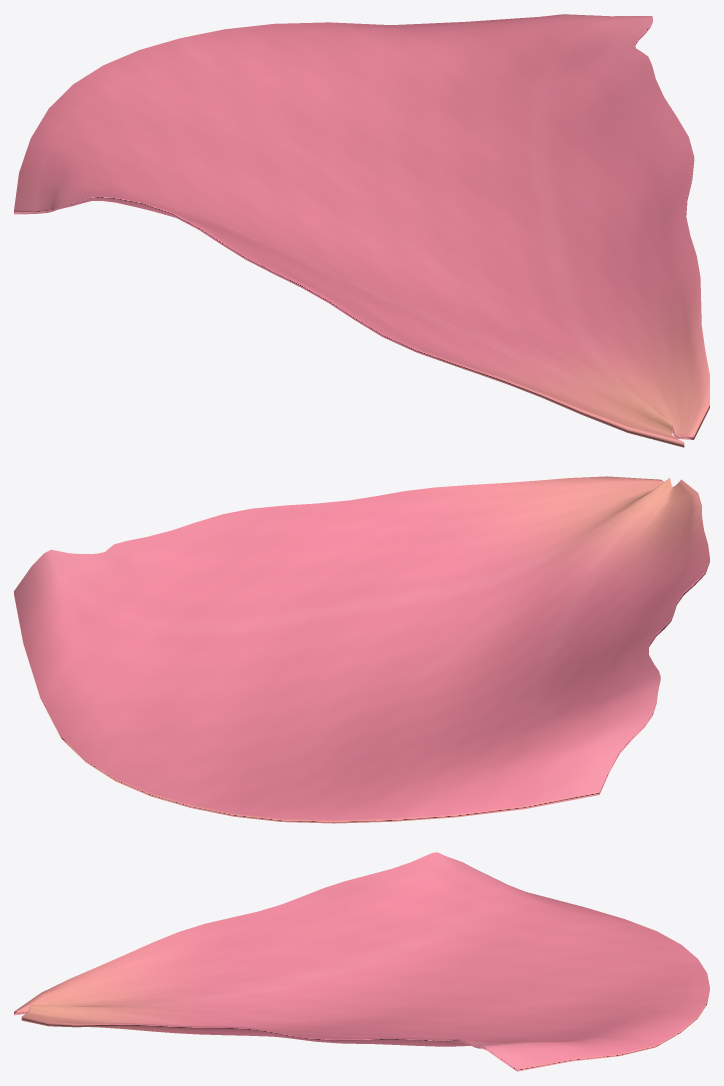
The model's file is flower_petal_hero_clean.glb.
3 views of the same model, one above another, from view 1: azimuth 30°, elevation 25°; view 2: azimuth 150°, elevation 25°; view 3: azimuth 270°, elevation 25° (orthographic). The views are drawn at different scales.
Parts seen in each view (by area): view 1: FlowerPetalHero; view 2: FlowerPetalHero; view 3: FlowerPetalHero.
Part boxes in pixels (x1,y1,x2,y2): FlowerPetalHero: [14, 14, 709, 447]; FlowerPetalHero: [14, 476, 709, 823]; FlowerPetalHero: [14, 852, 709, 1071].
Bounding box in the file's own units: 1.58 × 0.2818 × 2.23.
Materials: 1 (1 with a texture image).
